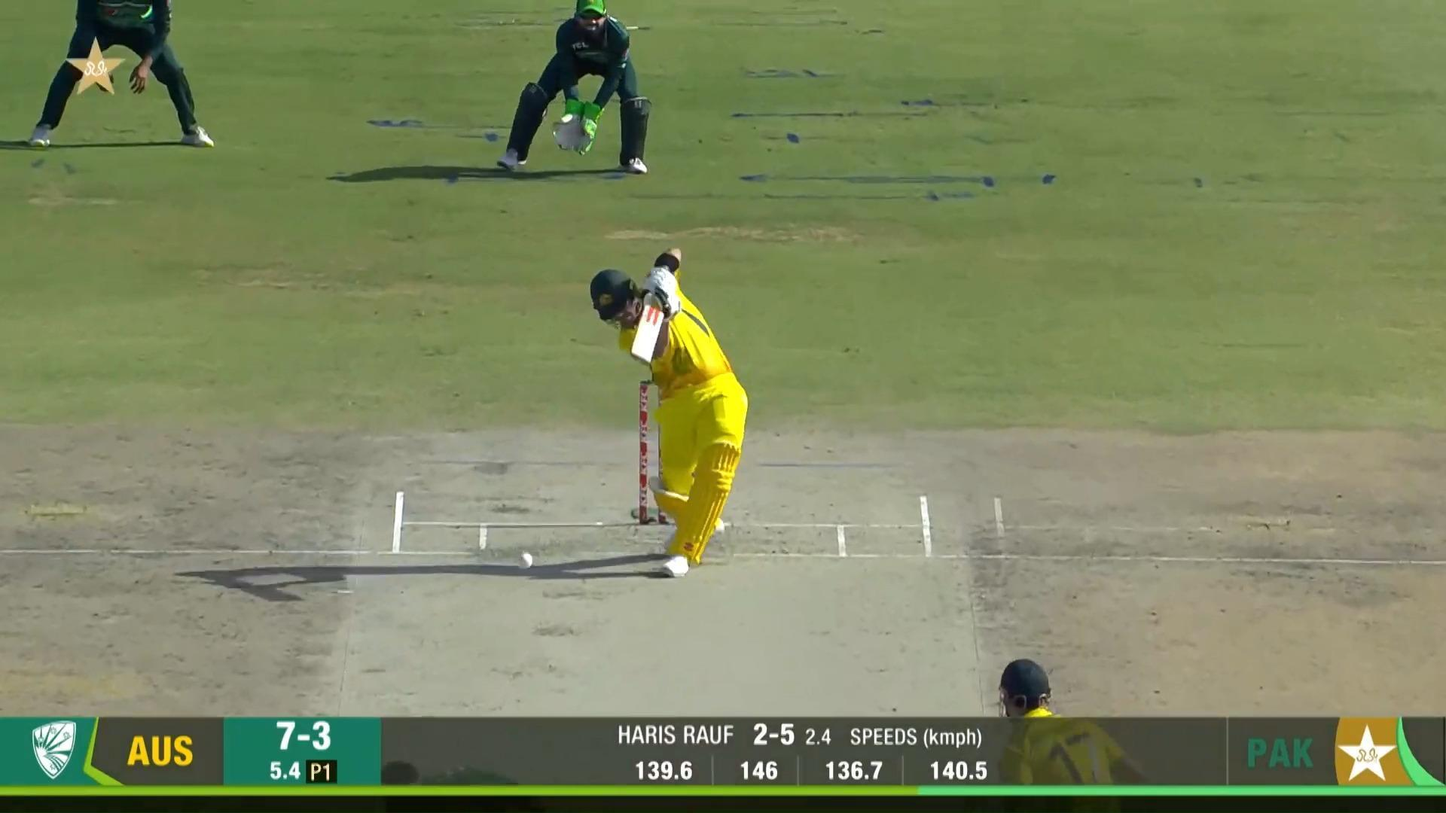BM 1: (590, 247, 748, 578)
BO: (382, 758, 536, 813)
